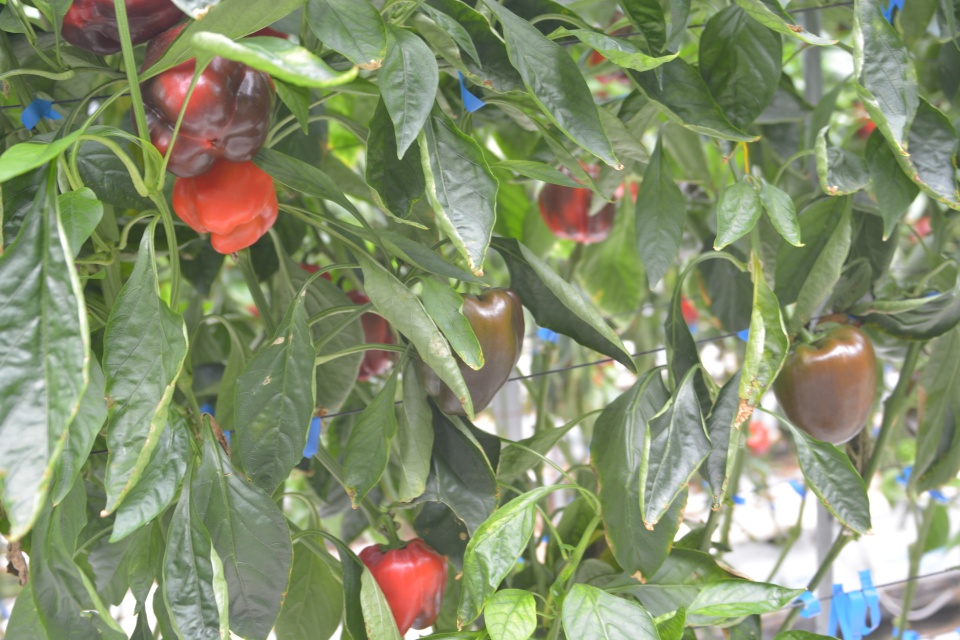fruit: (132, 23, 287, 183), (418, 285, 526, 420), (770, 319, 879, 444), (167, 156, 284, 256), (352, 533, 448, 640), (56, 0, 194, 58), (536, 155, 619, 244)
pedicle: (793, 330, 832, 342), (379, 540, 409, 552)
